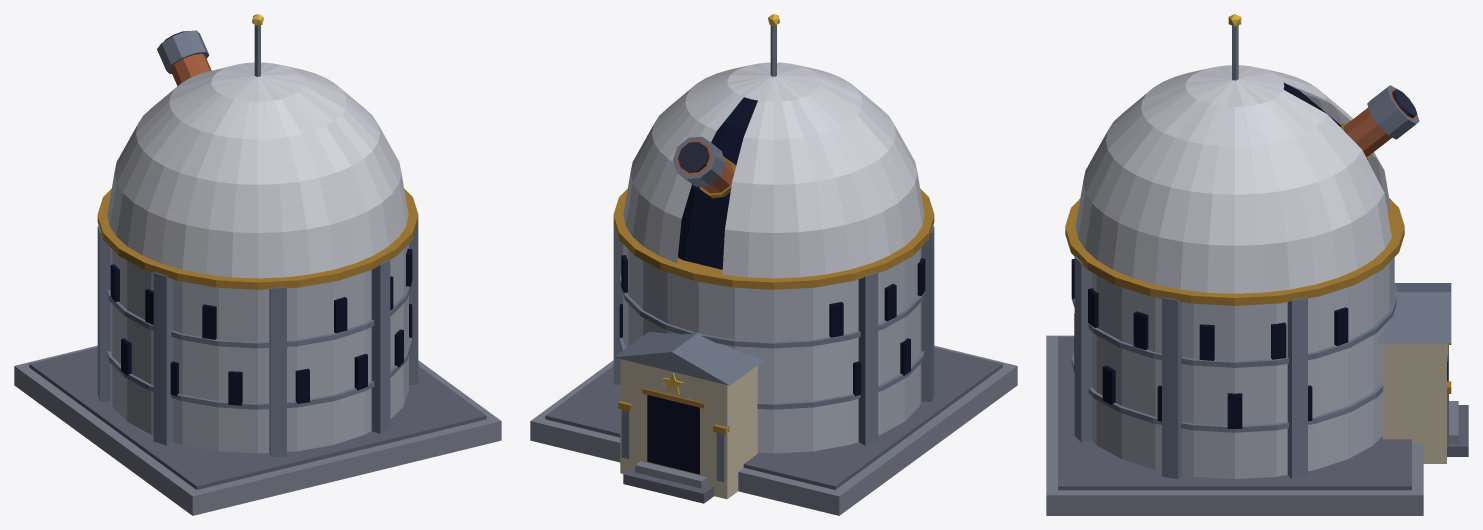
The model's file is Decor_Observatory_GreatDome.fbx.
The picture shows the model from 3 angles, left to right: view 1: azimuth 30°, elevation 25°; view 2: azimuth 150°, elevation 25°; view 3: azimuth 270°, elevation 25°; orthographic projection. The views are drawn at different scales.
Visible parts, largest first — view 1: GreatDome_Body; view 2: GreatDome_Body; view 3: GreatDome_Body.
Part boxes in pixels (x1,y1,x2,y2): GreatDome_Body: (14,14,501,515); GreatDome_Body: (530,14,1017,515); GreatDome_Body: (1046,14,1468,515).
Size of the model in its own units: 26 by 32.1 by 29.1.
